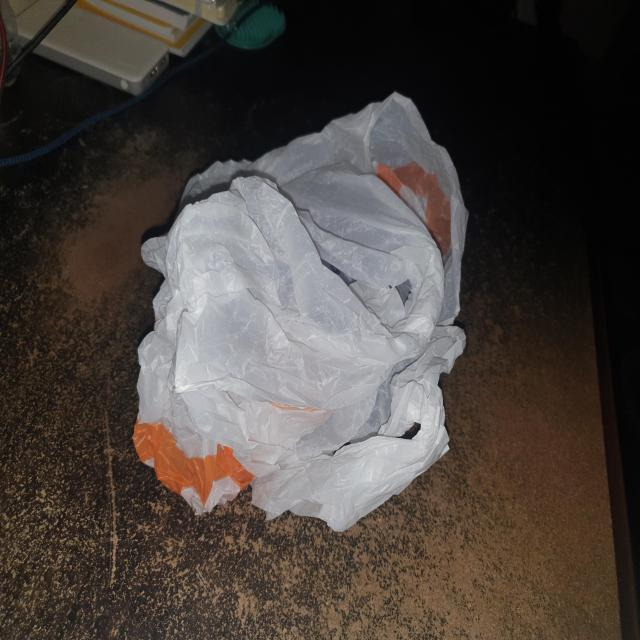plastic bag: (125, 74, 477, 547)
